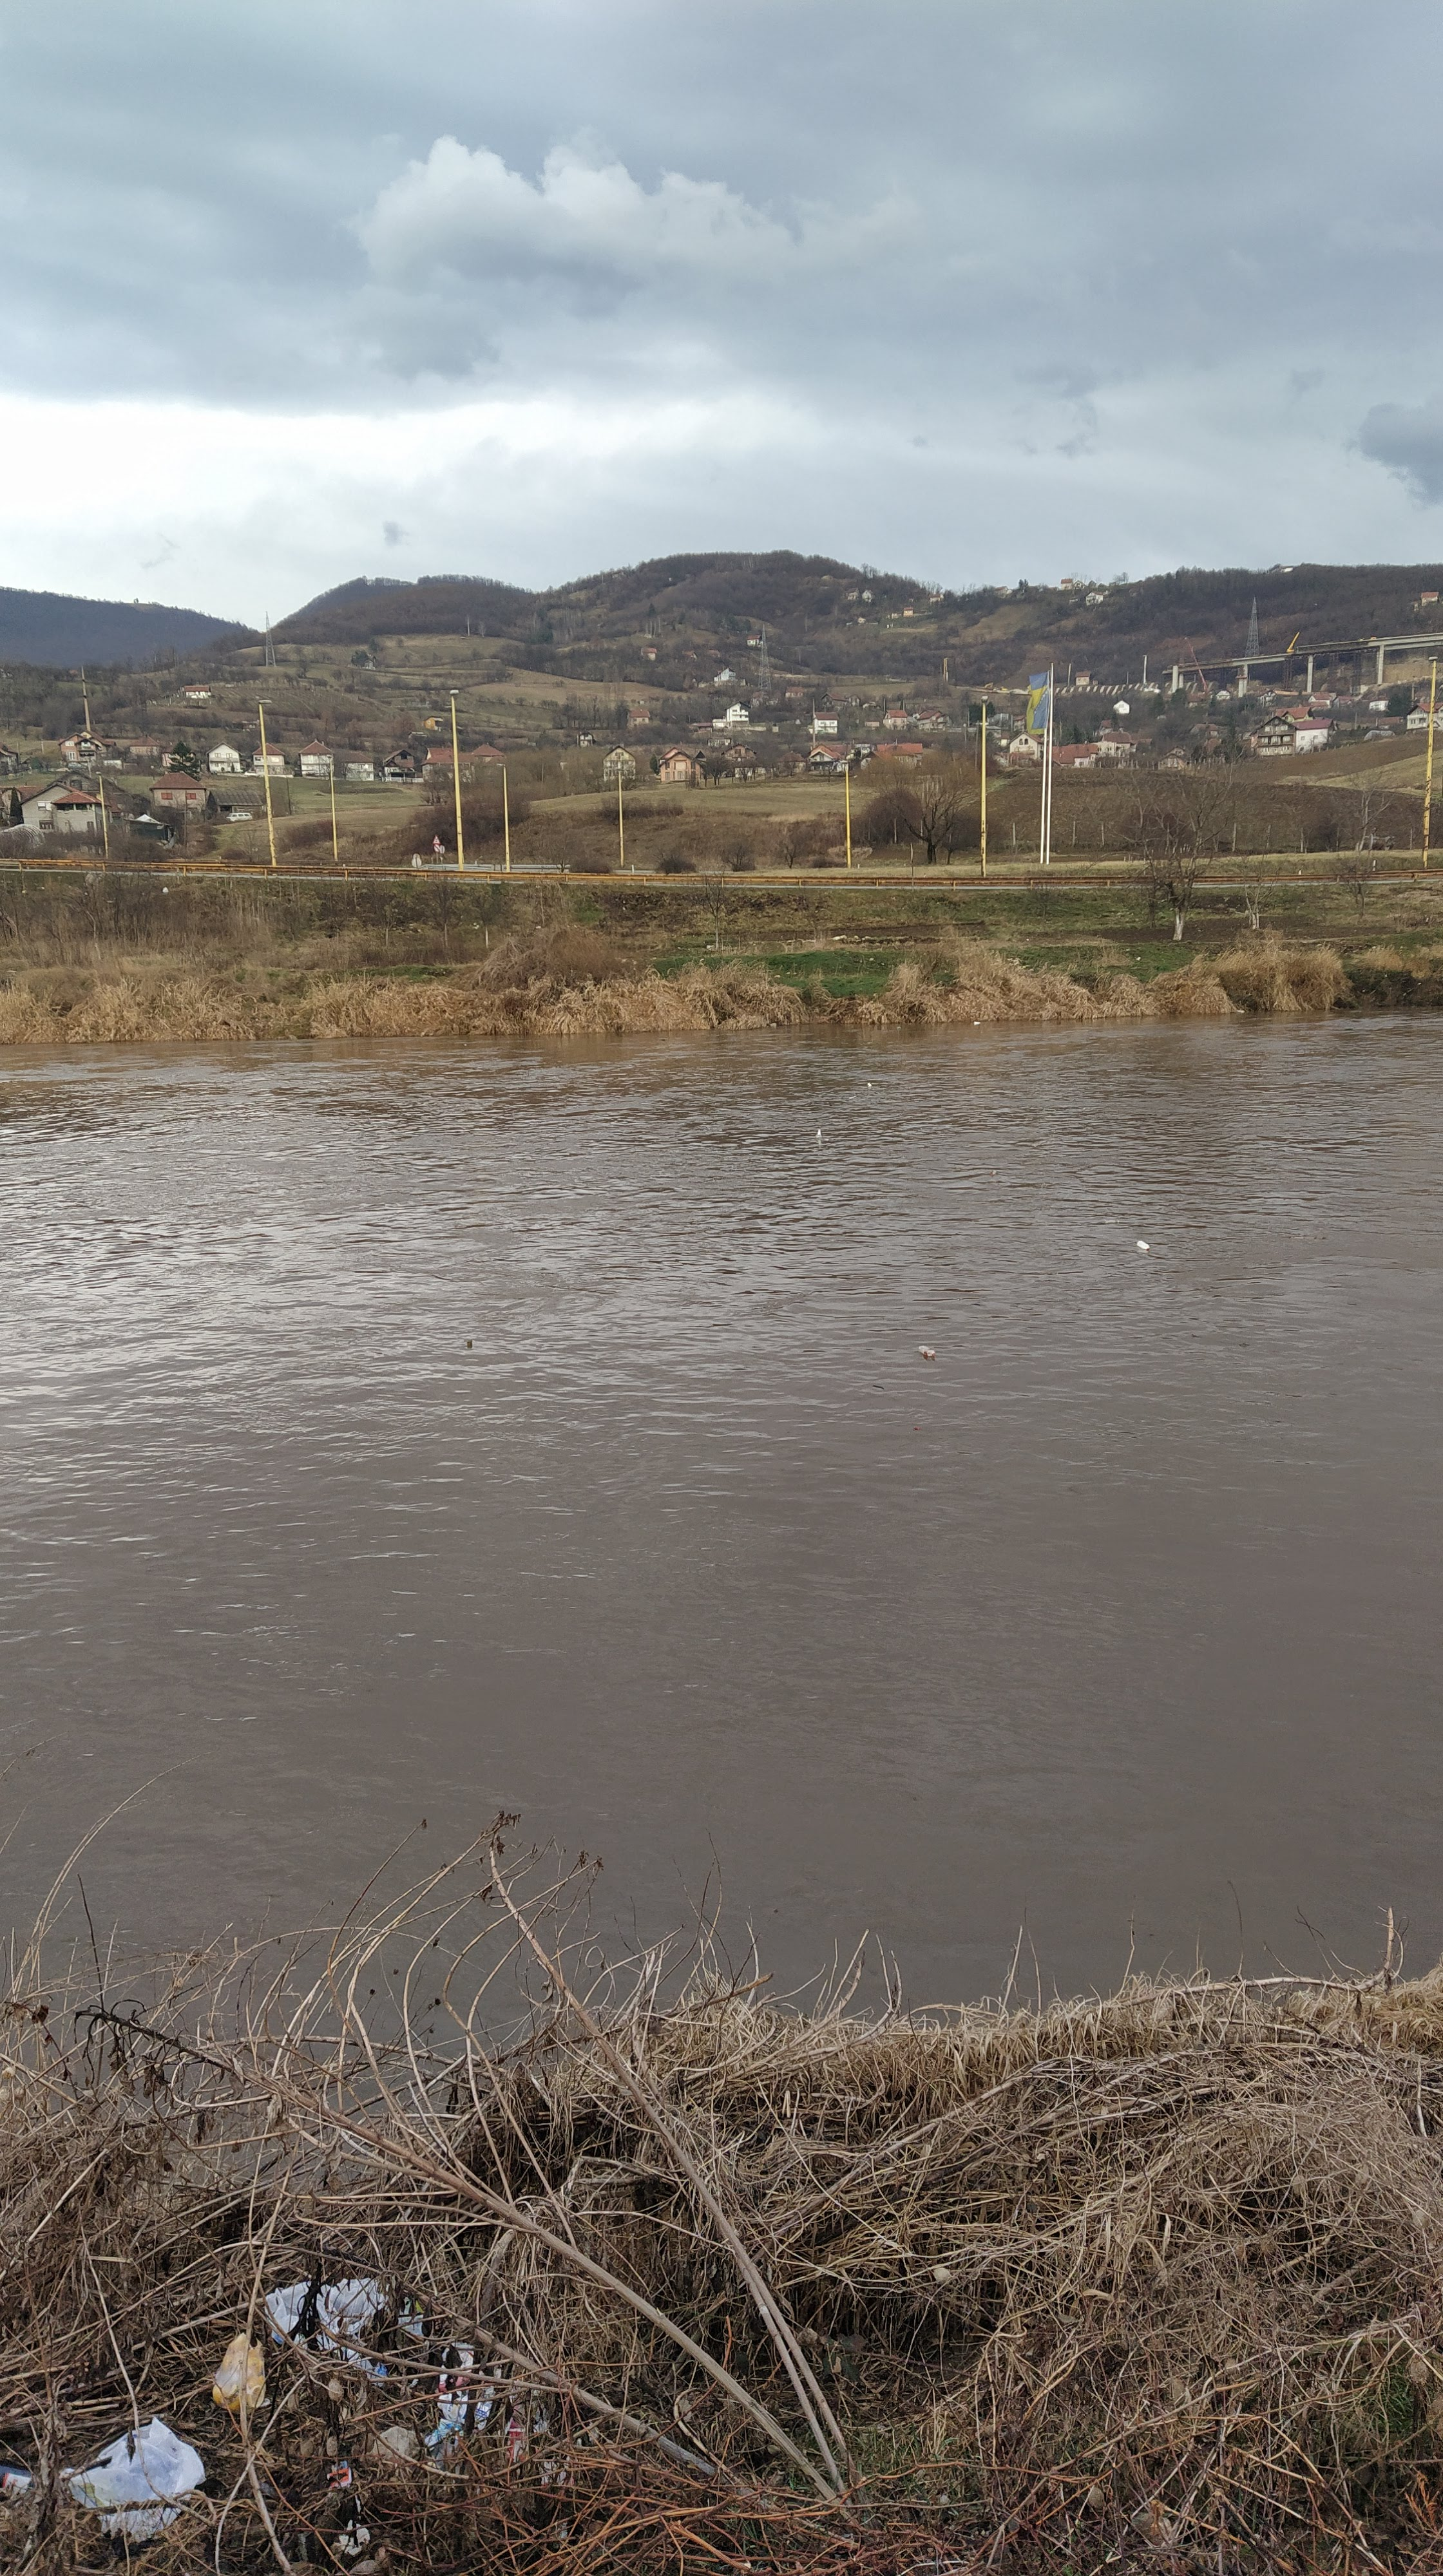Plastic Bottle: (921, 1345, 935, 1357), (1137, 1240, 1149, 1251), (1107, 1219, 1119, 1224), (466, 1339, 473, 1345), (992, 1169, 997, 1175), (974, 1021, 979, 1024)
